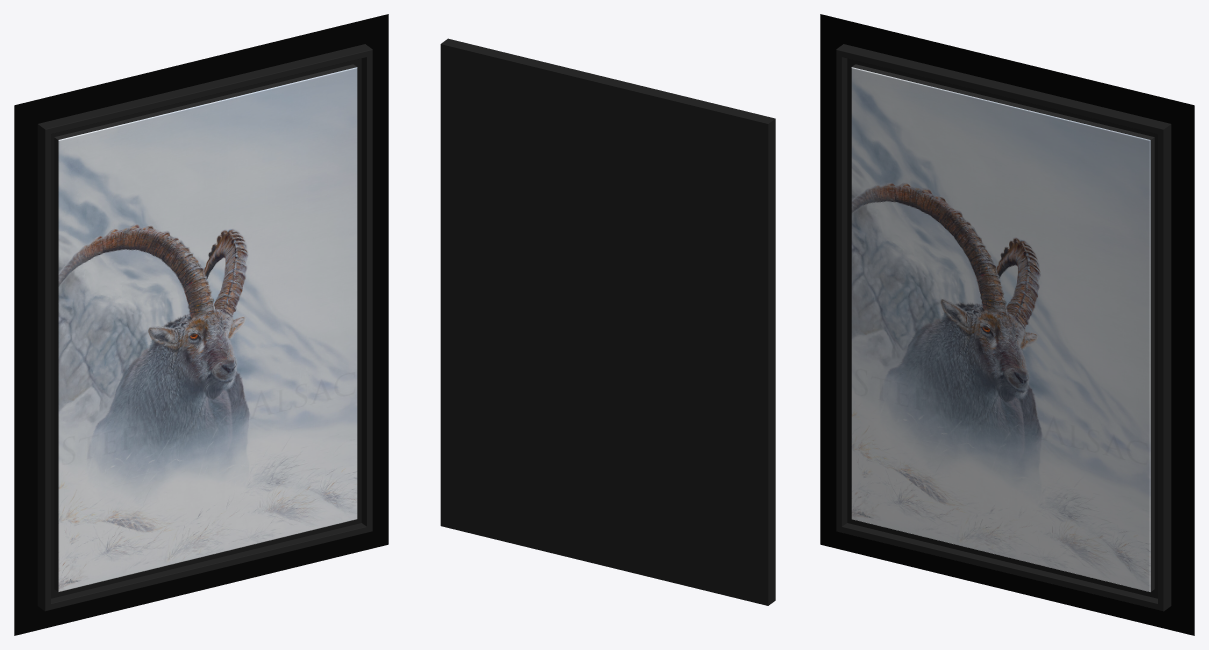
Rendered from tableau-peinture-ibex-grand-993a6ea5.glb.
3 views of the same model, side by side, from view 1: azimuth 30°, elevation 25°; view 2: azimuth 150°, elevation 25°; view 3: azimuth 330°, elevation 25° (orthographic).
Visible parts, largest first — view 1: Painting; view 2: Painting; view 3: Painting.
Boxes of the visible parts, bbox=[...] form: Painting: bbox=[14, 14, 388, 635]; Painting: bbox=[440, 38, 775, 605]; Painting: bbox=[820, 14, 1194, 635].
Size of the model in its own units: 1.13 by 1.53 by 0.04.
5 materials, 3 textured.
